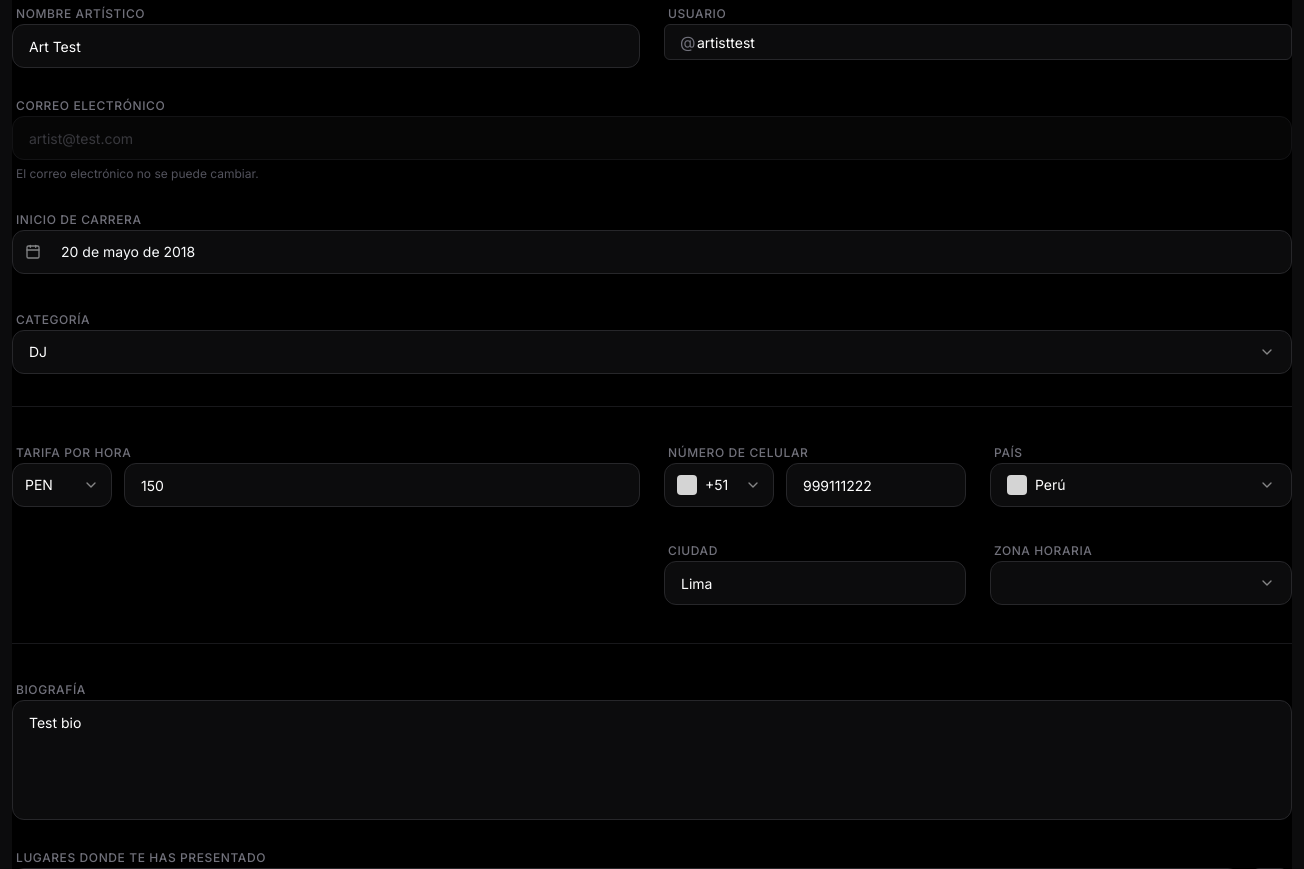
Test: ArtistProfileForm Component › handles standard text input changes
Replace the text in the field labelled "Nombre Artístico" with "New Art Name" at (326, 46), box [12, 24, 640, 68]
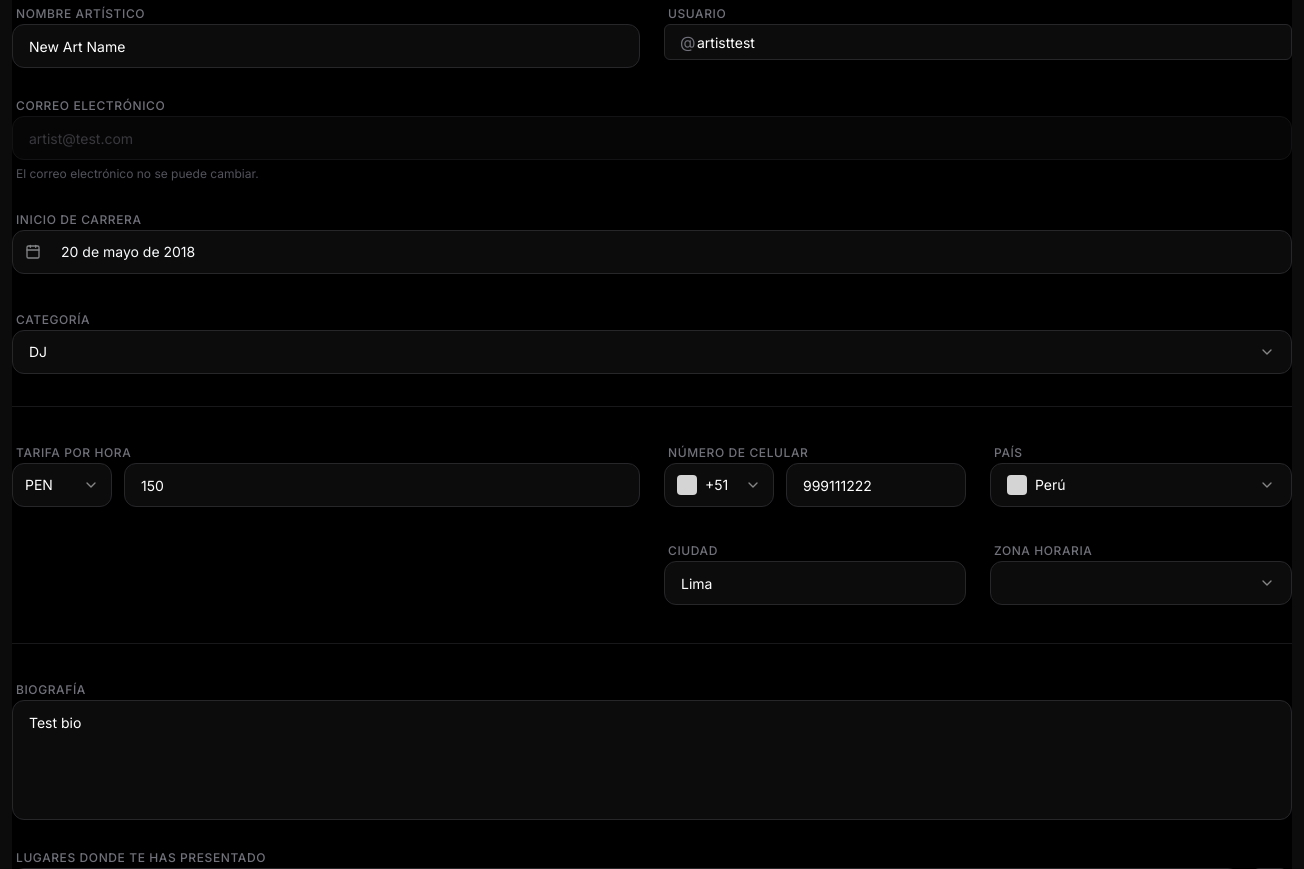
Replace the text in the field labelled "Número de celular" with "987a654" at (876, 485), box [786, 463, 966, 507]
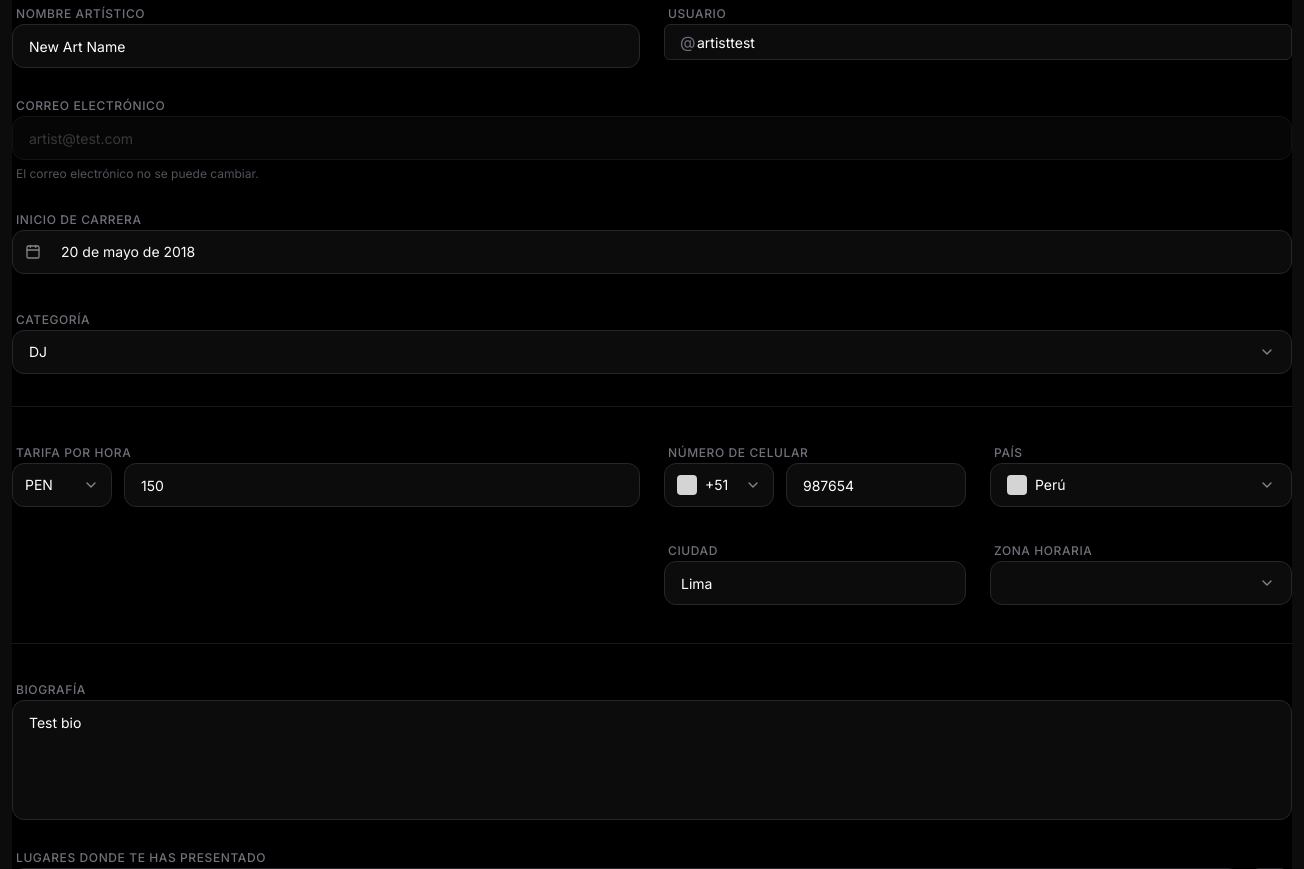
expect the field labelled "Número de celular" holds "987654": met, box [786, 463, 966, 507]
